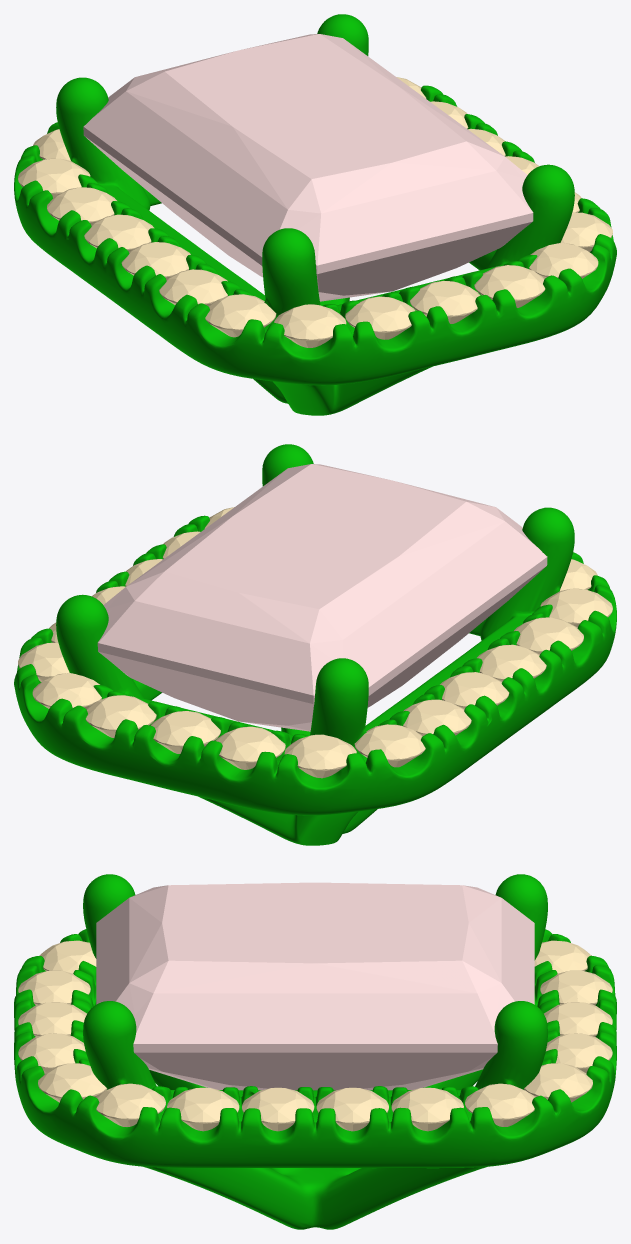
The picture shows the model from 3 angles, top to bottom: view 1: azimuth 30°, elevation 25°; view 2: azimuth 150°, elevation 25°; view 3: azimuth 270°, elevation 25°; orthographic projection.
Visible parts, largest first — view 1: Diamond_Radiant, Metal01, Diamond_Round.006, Diamond_Round.007, Diamond_Round.005, Diamond_Round.004, Diamond_Round.003, Diamond_Round.008, Diamond_Round.002, Diamond_Round.011, Diamond_Round.010, Diamond_Round.009 (+3 smaller); view 2: Diamond_Radiant, Metal01, Diamond_Round.013, Diamond_Round.012, Diamond_Round.014, Diamond_Round.016, Diamond_Round.015, Diamond_Round.011, Diamond_Round.017, Diamond_Round.008, Diamond_Round.009, Diamond_Round.010 (+3 smaller); view 3: Diamond_Radiant, Metal01, Diamond_Round.001, Diamond_Round.018, Diamond_Round.019, Diamond_Round, Diamond_Round.020, Diamond_Round.021, Diamond_Round.002, Diamond_Round.017, Diamond_Round.005, Diamond_Round.014 (+6 smaller).
Boxes of the visible parts, x1,y1,x2,y2 form: Diamond_Radiant: (83,34,533,301); Metal01: (14,14,616,415); Diamond_Round.006: (274,304,346,347); Diamond_Round.007: (205,294,276,337); Diamond_Round.005: (345,296,415,339); Diamond_Round.004: (410,281,480,323); Diamond_Round.003: (474,265,545,307); Diamond_Round.008: (159,269,227,306); Diamond_Round.002: (529,243,598,278); Diamond_Round.011: (47,187,116,224); Diamond_Round.010: (84,214,154,251); Diamond_Round.009: (121,242,190,279); Diamond_Radiant: (97,464,547,731); Metal01: (14,444,616,845); Diamond_Round.013: (284,734,356,778); Diamond_Round.012: (354,724,425,767); Diamond_Round.014: (215,726,285,769); Diamond_Round.016: (85,695,156,737); Diamond_Round.015: (151,711,220,753); Diamond_Round.011: (403,699,471,736); Diamond_Round.017: (32,673,101,708); Diamond_Round.008: (514,617,583,654); Diamond_Round.009: (477,644,546,681); Diamond_Round.010: (440,672,509,708); Diamond_Radiant: (96,882,534,1090); Metal01: (14,874,616,1229); Diamond_Round.001: (96,1083,165,1126); Diamond_Round.018: (465,1083,534,1126); Diamond_Round.019: (391,1087,463,1131); Diamond_Round: (167,1087,239,1131); Diamond_Round.020: (316,1087,388,1131); Diamond_Round.021: (242,1087,314,1131); Diamond_Round.002: (38,1063,107,1102); Diamond_Round.017: (524,1063,592,1102); Diamond_Round.005: (18,970,90,1005); Diamond_Round.014: (540,970,612,1005).
Size of the model in its own units: 10.79 by 7.25 by 13.35.
